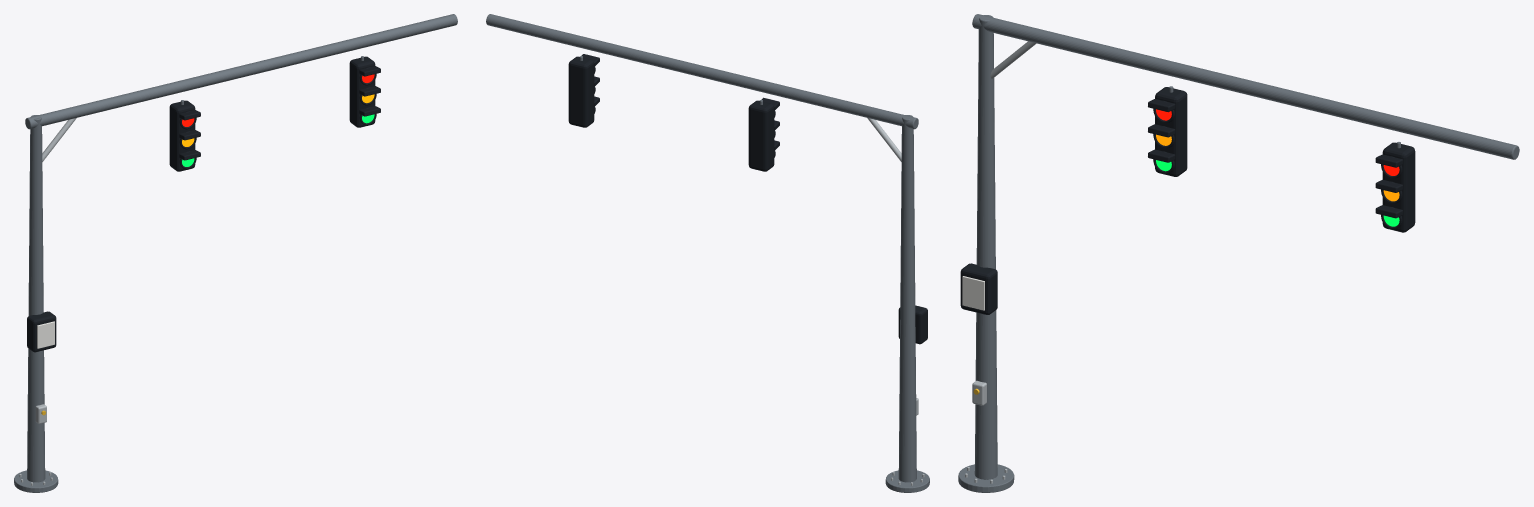
File: prop_starter_traffic_light_a_v01.glb
3 renders of one model, left to right at view 1: azimuth 30°, elevation 25°; view 2: azimuth 150°, elevation 25°; view 3: azimuth 330°, elevation 25°, orthographic. The views are drawn at different scales.
Visible parts, largest first — view 1: component__mast_arm__mast_arm, component__vertical_support__traffic_vertical_support, component__signal_head_right__signal_housing_right, component__signal_head_left__signal_housing_left, component__pedestrian_signal__pedestrian_signal, component__base_flange__traffic_base; view 2: component__vertical_support__traffic_vertical_support, component__mast_arm__mast_arm, component__signal_head_right__signal_housing_right, component__signal_head_left__signal_housing_left, component__base_flange__traffic_base, component__pedestrian_signal__pedestrian_signal; view 3: component__mast_arm__mast_arm, component__vertical_support__traffic_vertical_support, component__signal_head_right__signal_housing_right, component__signal_head_left__signal_housing_left, component__pedestrian_signal__pedestrian_signal, component__base_flange__traffic_base, component__pedestrian_signal__pedestrian_display.
Part boxes in pixels (x1,y1,x2,y2): component__mast_arm__mast_arm: [25, 14, 457, 129]; component__vertical_support__traffic_vertical_support: [27, 115, 45, 482]; component__signal_head_right__signal_housing_right: [349, 56, 375, 127]; component__signal_head_left__signal_housing_left: [169, 100, 195, 171]; component__pedestrian_signal__pedestrian_signal: [27, 311, 56, 352]; component__base_flange__traffic_base: [14, 470, 58, 492]; component__vertical_support__traffic_vertical_support: [898, 115, 916, 482]; component__mast_arm__mast_arm: [486, 14, 918, 129]; component__signal_head_right__signal_housing_right: [568, 56, 594, 127]; component__signal_head_left__signal_housing_left: [748, 100, 774, 171]; component__base_flange__traffic_base: [885, 470, 929, 492]; component__pedestrian_signal__pedestrian_signal: [898, 305, 927, 344]; component__mast_arm__mast_arm: [972, 14, 1519, 159]; component__vertical_support__traffic_vertical_support: [974, 15, 997, 479]; component__signal_head_right__signal_housing_right: [1382, 142, 1415, 232]; component__signal_head_left__signal_housing_left: [1155, 87, 1187, 176]; component__pedestrian_signal__pedestrian_signal: [960, 263, 997, 314]; component__base_flange__traffic_base: [958, 464, 1014, 492]; component__pedestrian_signal__pedestrian_display: [962, 276, 984, 310].
Bounding box in the file's own units: 7.79 × 6.24 × 0.68.
